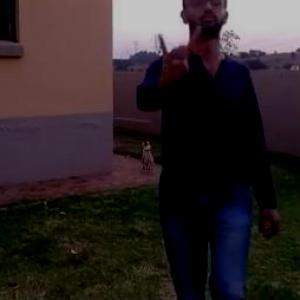takeoff-hand: (152, 22, 205, 88)
